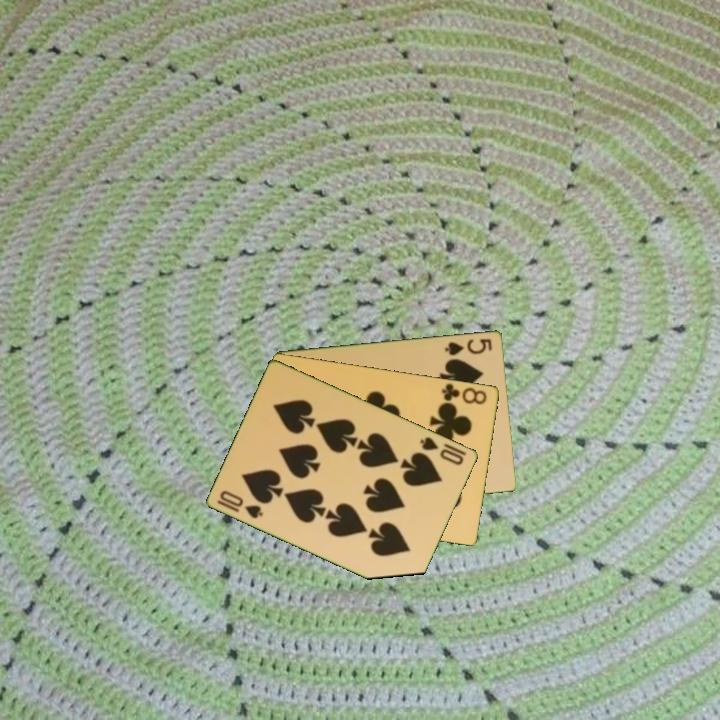10s: (214, 487, 267, 521), (417, 433, 467, 468)
5s: (441, 335, 495, 358)
8c: (438, 380, 490, 407)
